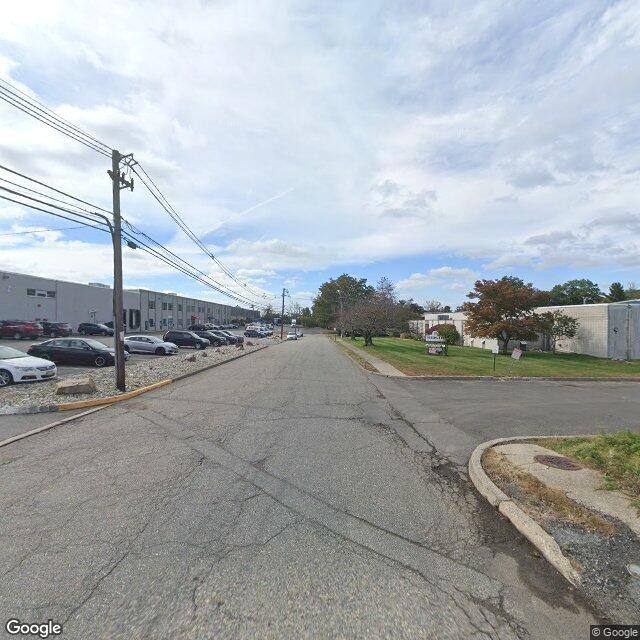pothole: (428, 457, 462, 482), (250, 457, 271, 473), (374, 418, 391, 432)
